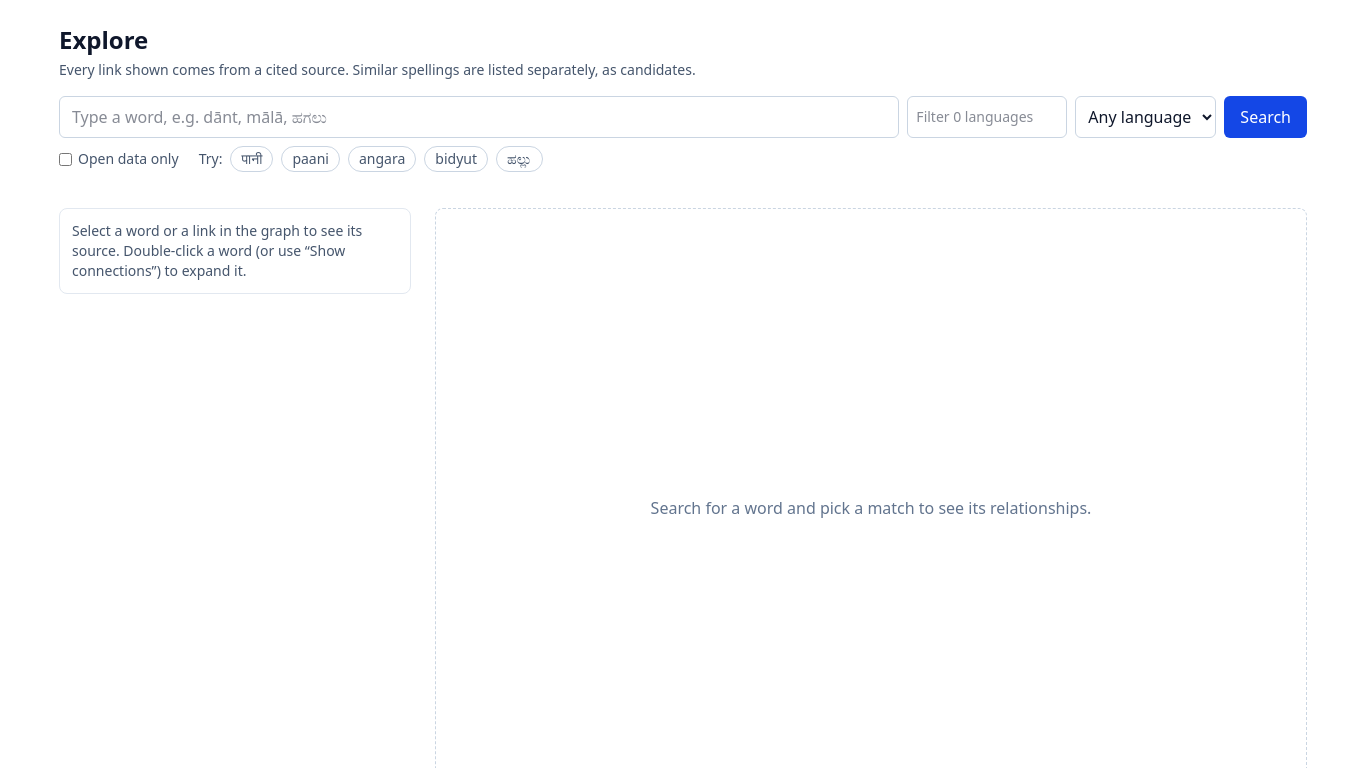
Test: ExplorePage follows the URL and drops stale data › removes the old matches when a search fails
Type "dānt" into the field labelled "word" at (479, 117), box [59, 96, 899, 138]
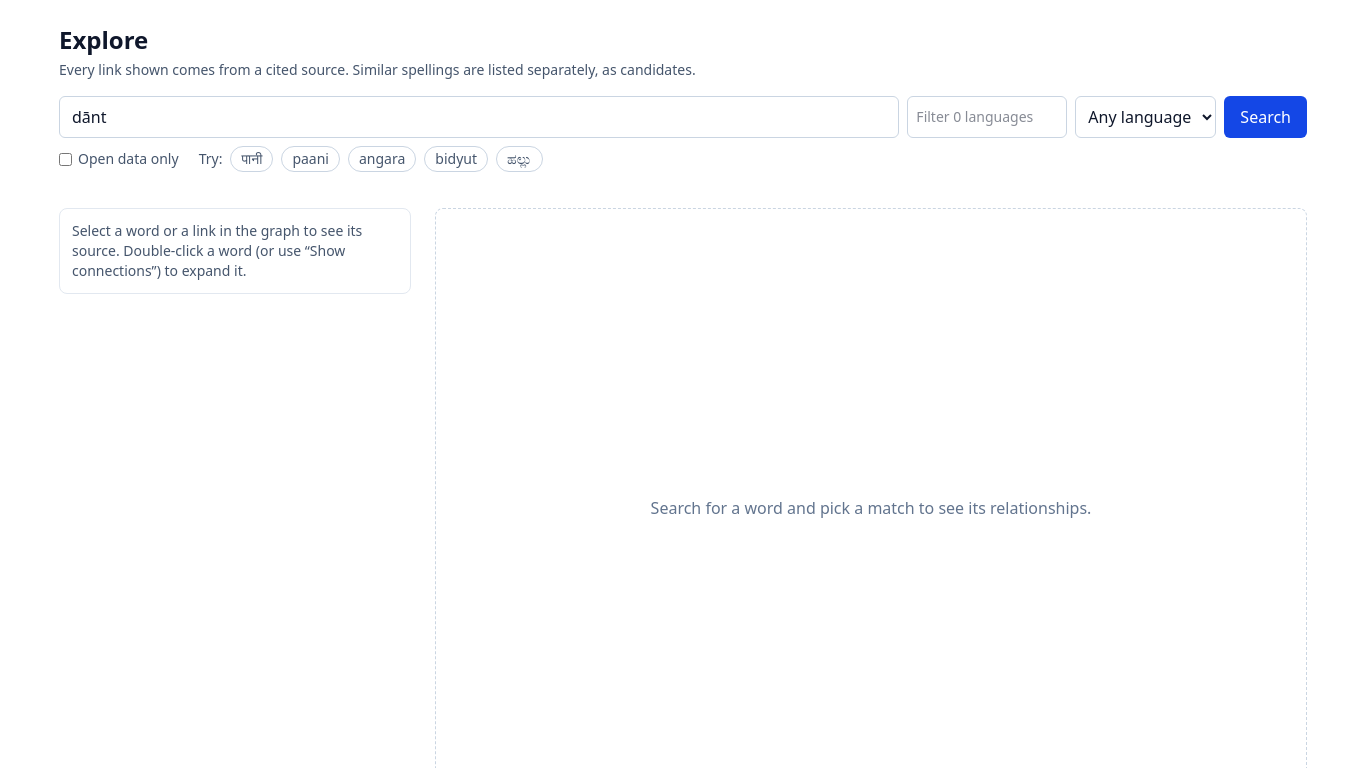
Click the button "Search" at (1266, 117), box [1224, 96, 1307, 138]
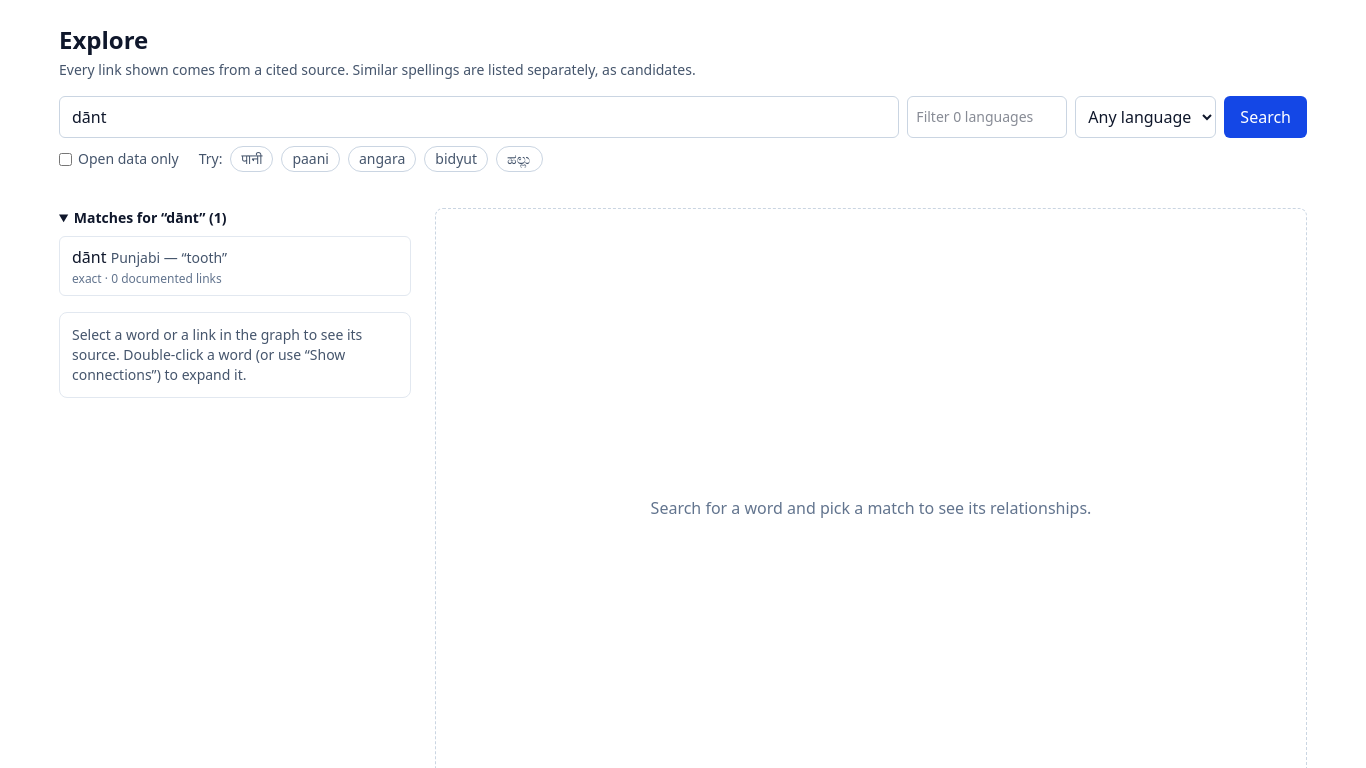
Result: the heading "Matches for “dānt” (1)" is shown at [74, 208, 227, 227]
Replace the text in the field named "word" with "next" at (479, 117), box [59, 96, 899, 138]
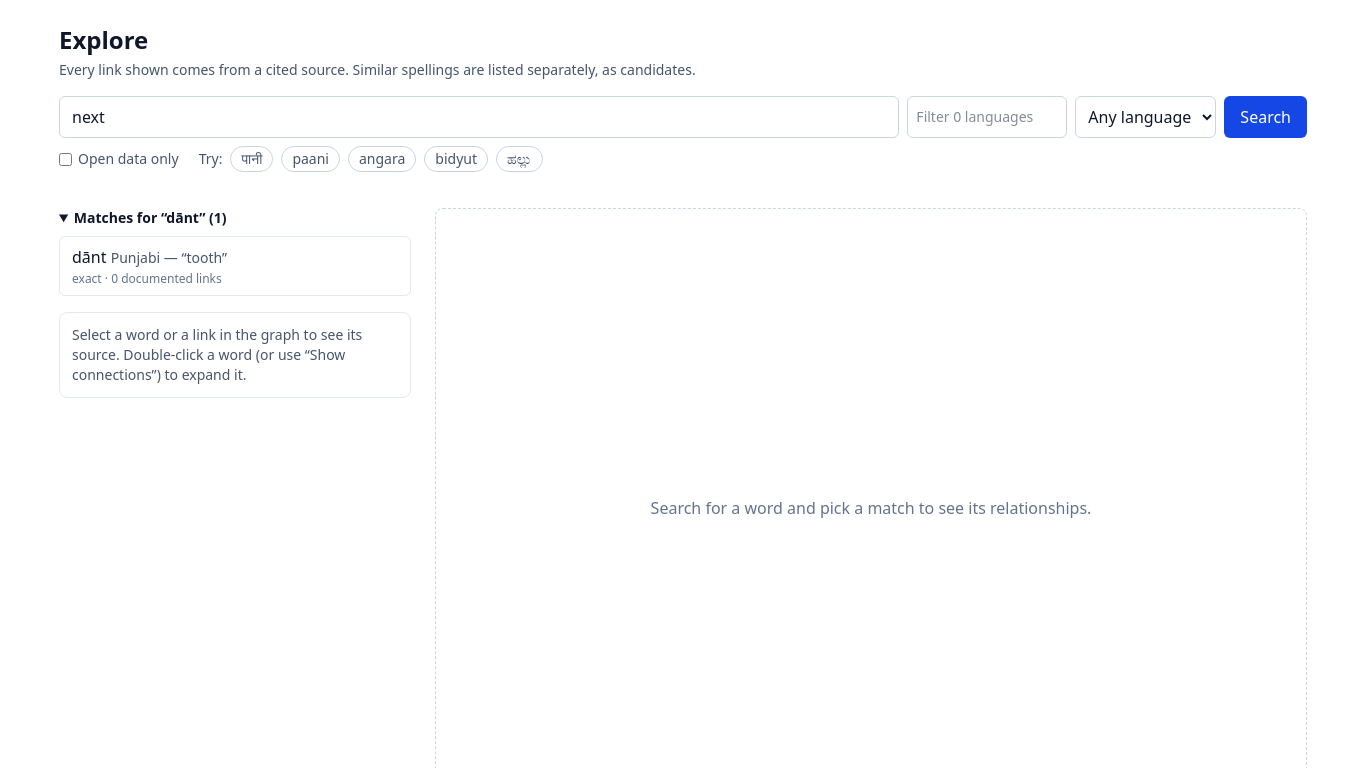
Click the button "Search" at (1266, 117), box [1224, 96, 1307, 138]
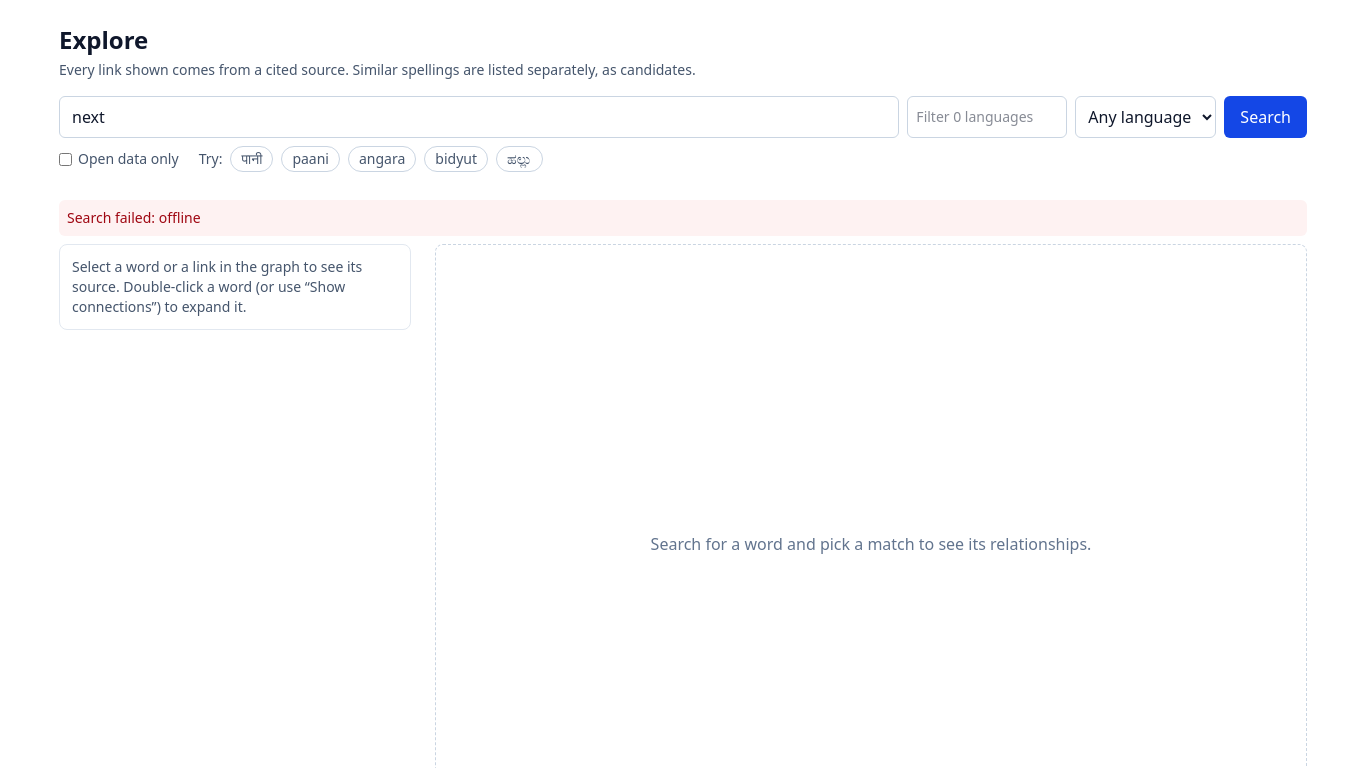
Result: the text "Search failed: offline" is shown at [59, 200, 1307, 236]
Result: the heading "Matches for" is gone
